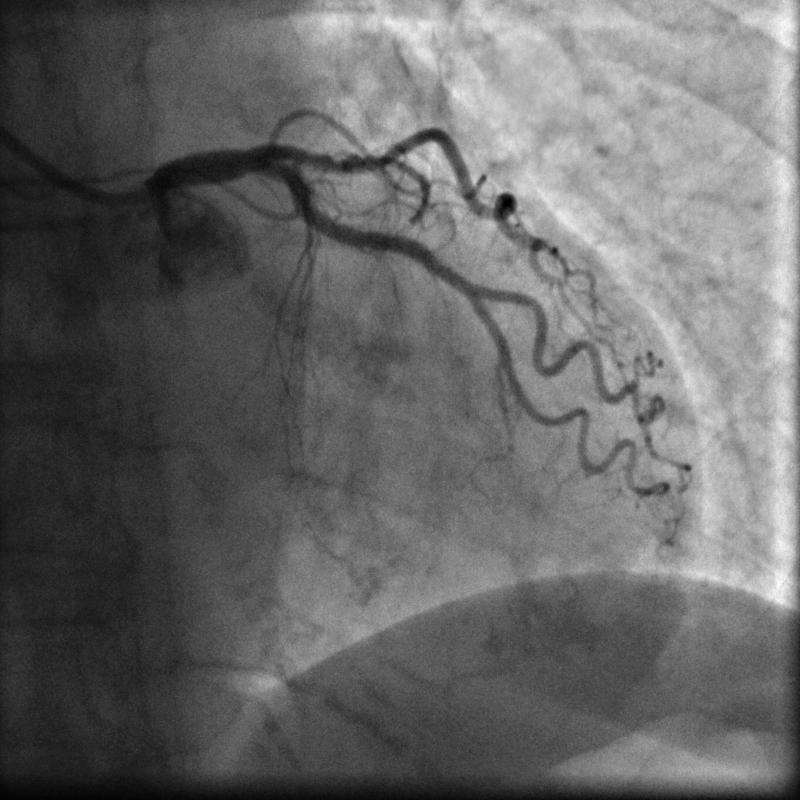Stenosis: (327, 155, 350, 175)
